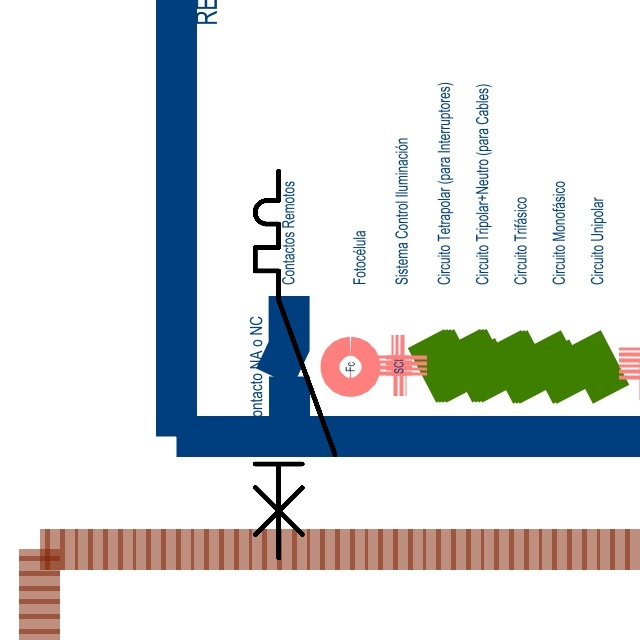interruptor_termomagnetico: (245, 161, 344, 568)
